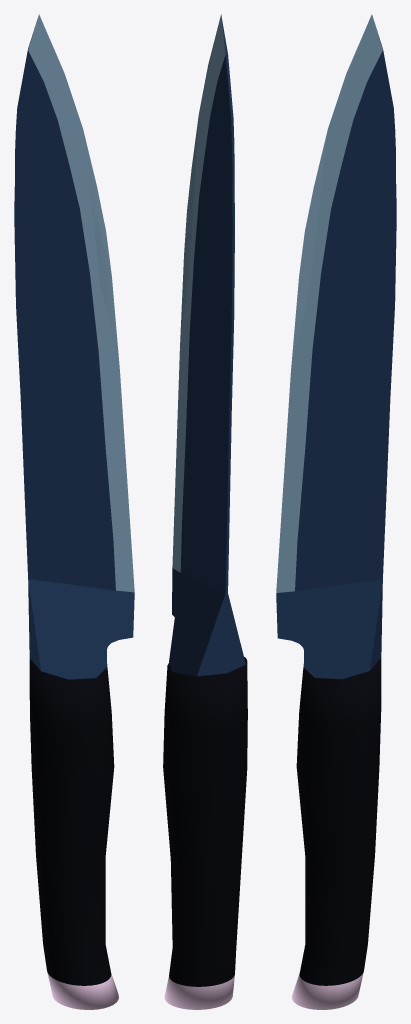
File: Cut knife.obj
3 views of the same model, side by side, from view 1: azimuth 90°, elevation 25°; view 2: azimuth 210°, elevation 25°; view 3: azimuth 270°, elevation 25° (orthographic).
Visible parts, largest first — view 1: Plane_Plane.001, Cylinder; view 2: Plane_Plane.001, Cylinder; view 3: Plane_Plane.001, Cylinder.
Boxes of the visible parts, x1,y1,x2,y2 form: Plane_Plane.001: (14, 14, 134, 679); Cylinder: (29, 658, 118, 1009); Plane_Plane.001: (169, 14, 245, 676); Cylinder: (163, 657, 247, 1009); Plane_Plane.001: (276, 14, 396, 679); Cylinder: (291, 658, 381, 1009).
Size of the model in its own units: 0.1469 by 1.93 by 0.214.
